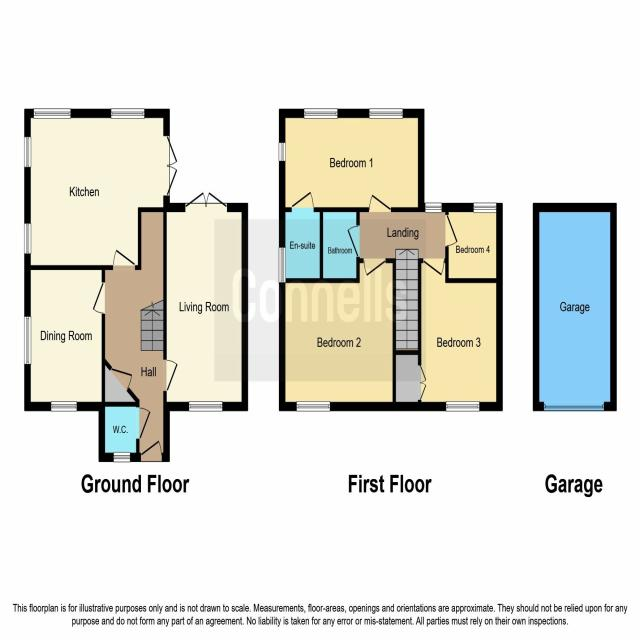DOOR: (112, 247, 136, 271), (163, 358, 179, 392), (136, 406, 152, 440), (291, 190, 314, 213), (140, 439, 162, 462), (91, 280, 105, 315), (346, 224, 360, 258), (445, 213, 459, 247), (422, 258, 446, 277), (363, 258, 386, 277), (368, 193, 391, 212)
DOUBLE DOOR: (163, 134, 179, 197), (184, 190, 228, 212)
ROOM: (24, 108, 178, 271), (163, 190, 249, 412), (279, 258, 396, 412), (392, 258, 503, 413), (278, 108, 425, 213), (24, 265, 106, 411), (445, 202, 503, 284)
WINDOW: (33, 107, 71, 120), (445, 400, 480, 413), (23, 315, 32, 365), (188, 400, 223, 412), (110, 108, 145, 120), (296, 401, 331, 412), (303, 108, 338, 119), (369, 108, 403, 119), (50, 400, 77, 412), (278, 247, 286, 284), (473, 202, 497, 214), (23, 136, 32, 168), (24, 222, 32, 255), (425, 202, 442, 213), (113, 452, 130, 463), (278, 142, 286, 162)
